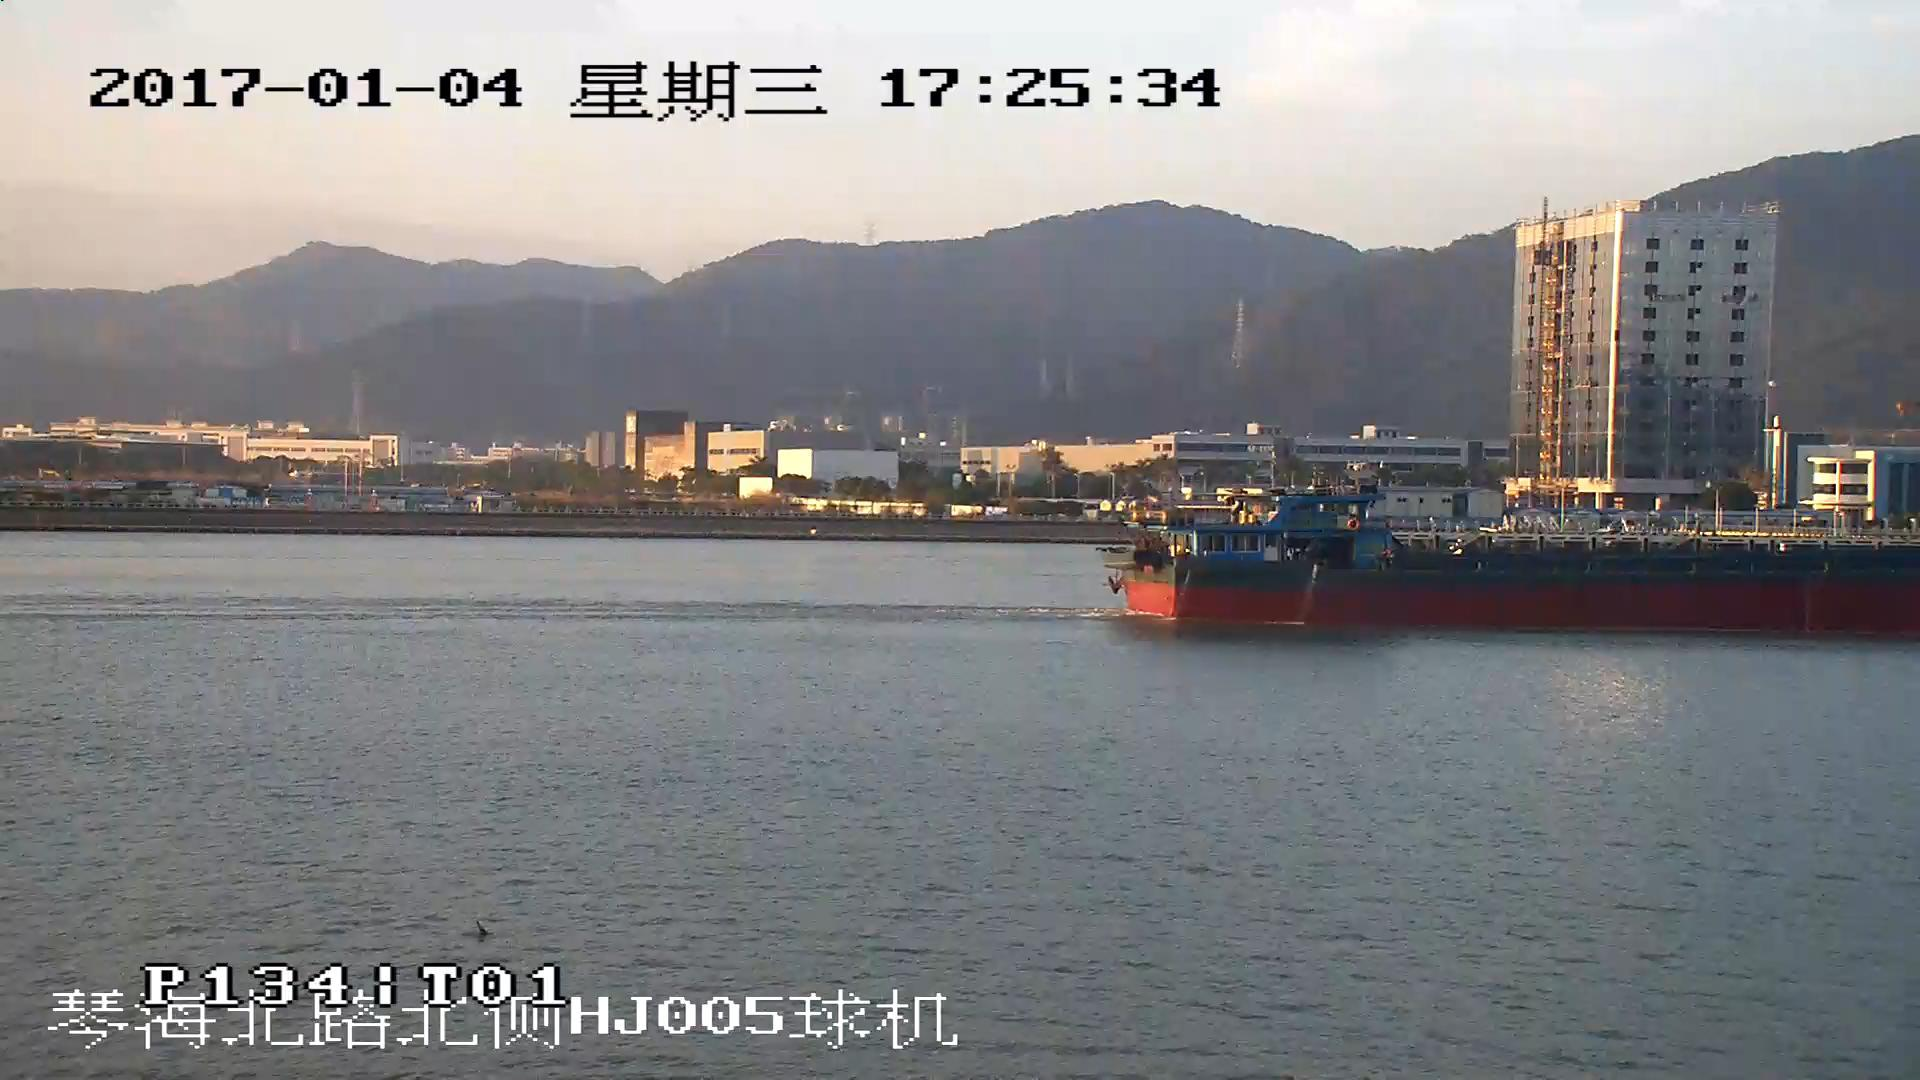Ship: (1106, 489, 1920, 638)
